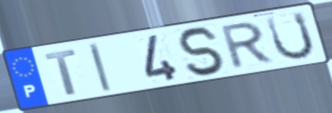4: (143, 32, 181, 83)
I: (86, 41, 114, 95)
R: (219, 19, 277, 72)
S: (175, 25, 230, 78)
T: (42, 47, 79, 98)
U: (264, 10, 317, 62)
